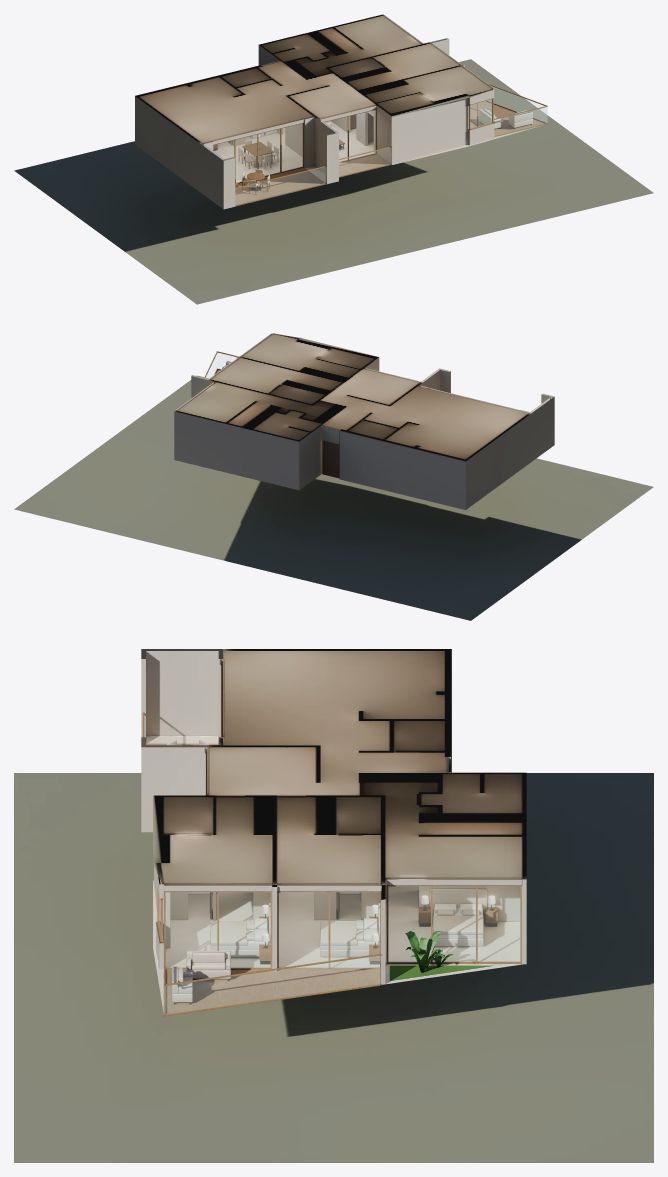
The picture shows the model from 3 angles, top to bottom: view 1: azimuth 30°, elevation 25°; view 2: azimuth 150°, elevation 25°; view 3: azimuth 270°, elevation 25°; orthographic projection. The views are drawn at different scales.
Visible parts, largest first — view 1: D10_piso, D10_muros, D10_vidrio, D10_carp, D10_muebles; view 2: D10_piso, D10_muros, D10_carp; view 3: D10_piso, D10_muros, D10_vidrio, D10_muebles, D10_carp.
Part boxes in pixels (left/top/right/bottom): D10_piso: left=14, top=59, right=653, bottom=304; D10_muros: left=135, top=14, right=494, bottom=209; D10_vidrio: left=213, top=87, right=547, bottom=204; D10_carp: left=213, top=83, right=547, bottom=205; D10_muebles: left=213, top=108, right=532, bottom=190; D10_piso: left=14, top=369, right=653, bottom=620; D10_muros: left=174, top=333, right=554, bottom=509; D10_carp: left=204, top=351, right=339, bottom=478; D10_piso: left=14, top=736, right=653, bottom=1162; D10_muros: left=141, top=649, right=526, bottom=984; D10_vidrio: left=159, top=886, right=519, bottom=1014; D10_muebles: left=166, top=740, right=496, bottom=1004; D10_carp: left=142, top=665, right=521, bottom=1016.
Bounding box in the file's own units: 29 × 6.17 × 20.12.
5 materials, 4 textured.
